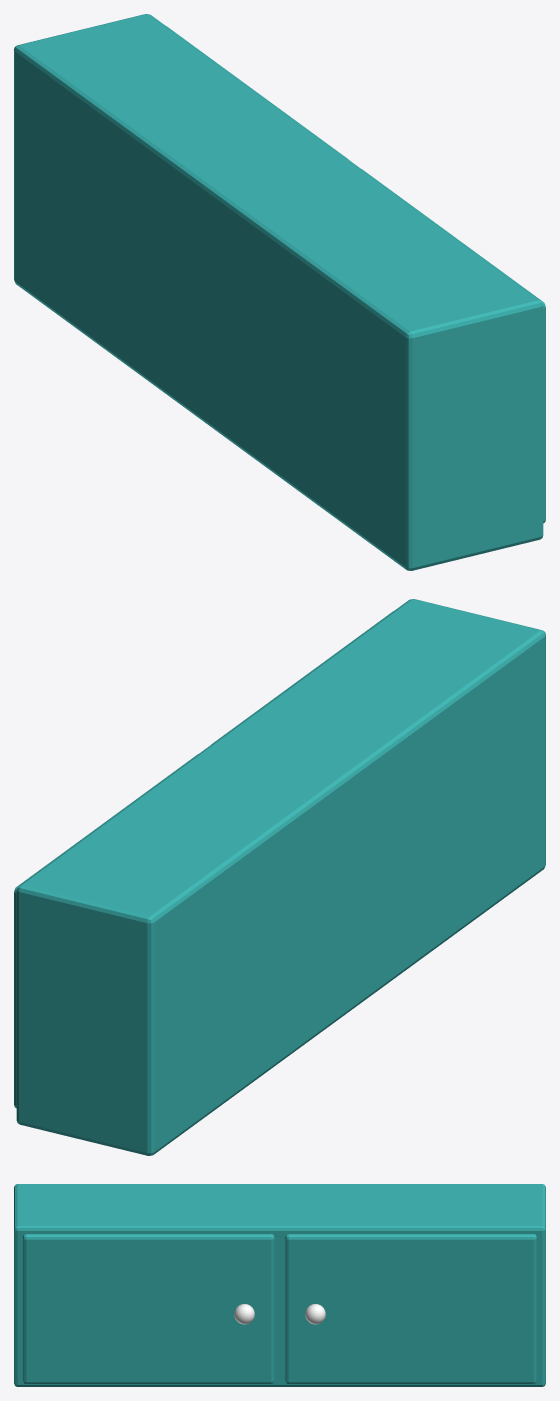
Rendered from MueblePared2.fbx.
3 views of the same model, one above another, from view 1: azimuth 30°, elevation 25°; view 2: azimuth 150°, elevation 25°; view 3: azimuth 270°, elevation 25° (orthographic). The views are drawn at different scales.
Visible parts, largest first — view 1: Cube, Cube.002; view 2: Cube, Cube.001; view 3: Cube.001, Cube.002, Cube, Sphere, Sphere.001.
Boxes of the visible parts, box(x1,y1,x2,y2) form: Cube: box(14, 14, 543, 570); Cube.002: box(362, 169, 545, 523); Cube: box(16, 599, 545, 1155); Cube.001: box(14, 754, 197, 1108); Cube.001: box(285, 1234, 536, 1383); Cube.002: box(23, 1234, 274, 1383); Cube: box(14, 1184, 545, 1386); Sphere: box(305, 1304, 325, 1324); Sphere.001: box(234, 1304, 254, 1324).
Size of the model in its own units: 150 by 37.1 by 50.
1 material, 1 textured.
